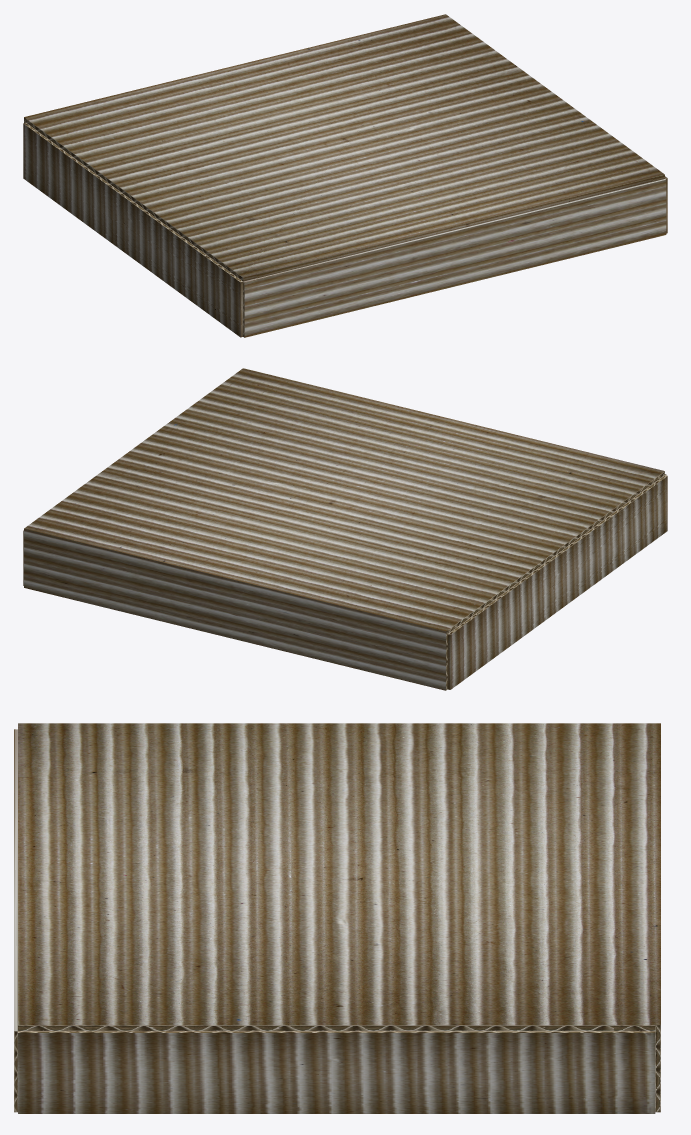
The model's file is Adventurer Moveable Platform.fbx.
3 views of the same model, one above another, from view 1: azimuth 30°, elevation 25°; view 2: azimuth 150°, elevation 25°; view 3: azimuth 270°, elevation 25° (orthographic). The views are drawn at different scales.
Parts seen in each view (by area): view 1: Platform; view 2: Platform; view 3: Platform.
Part boxes in pixels (x1,y1,x2,y2): Platform: (23,14,667,337); Platform: (23,368,667,690); Platform: (14,723,660,1113).
Bounding box in the file's own units: 6.79 × 0.8622 × 5.96.
